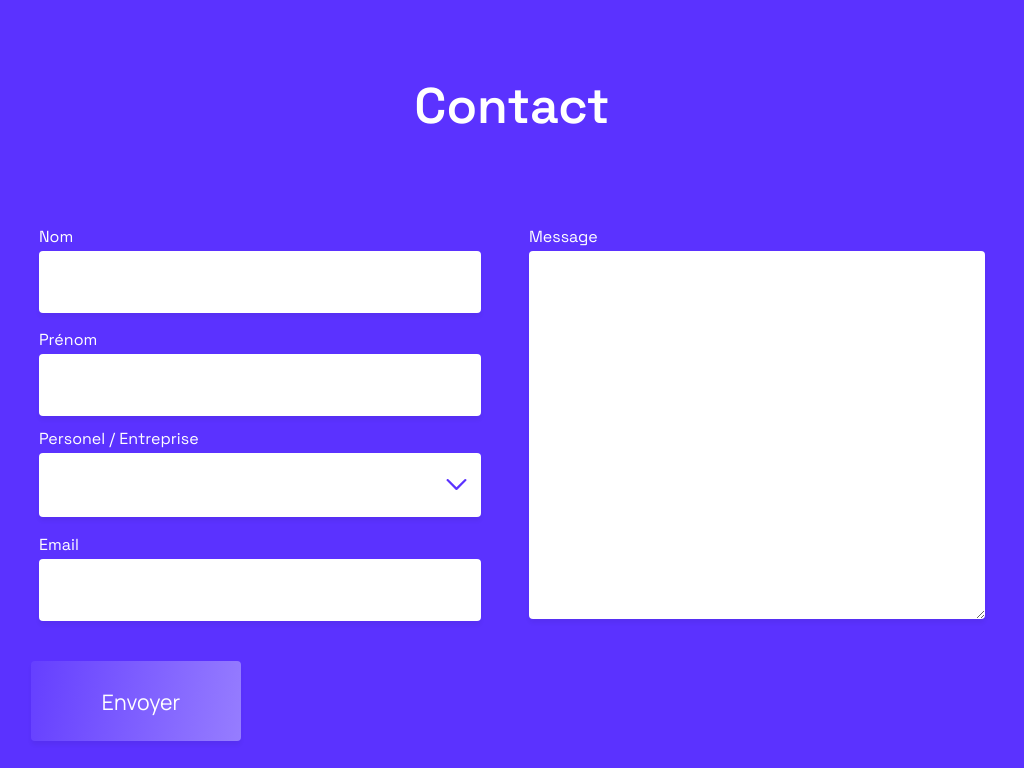
Contact form › should close the modal after clicking the close button
The width and height of the screenshot is (1024, 768).
(page scrolled)
Type "Dupont" into the 1st field at (260, 282), box [39,251,481,313]
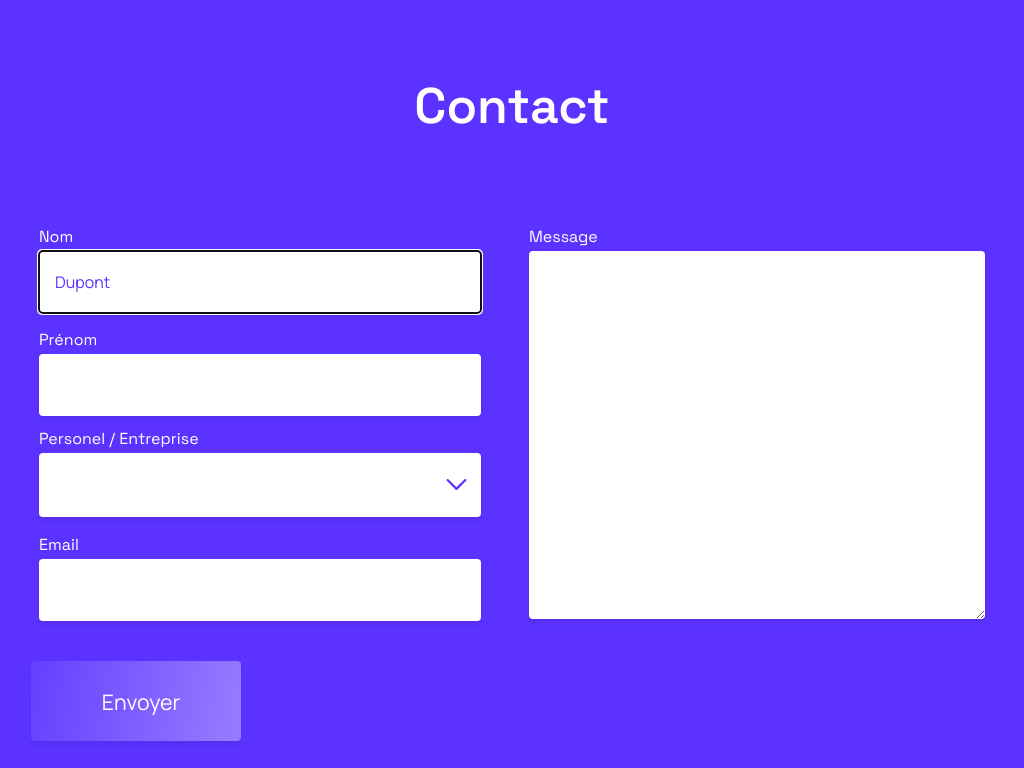
Type "Jean" into the field below "Prénom" at (260, 385), box [39,354,481,416]
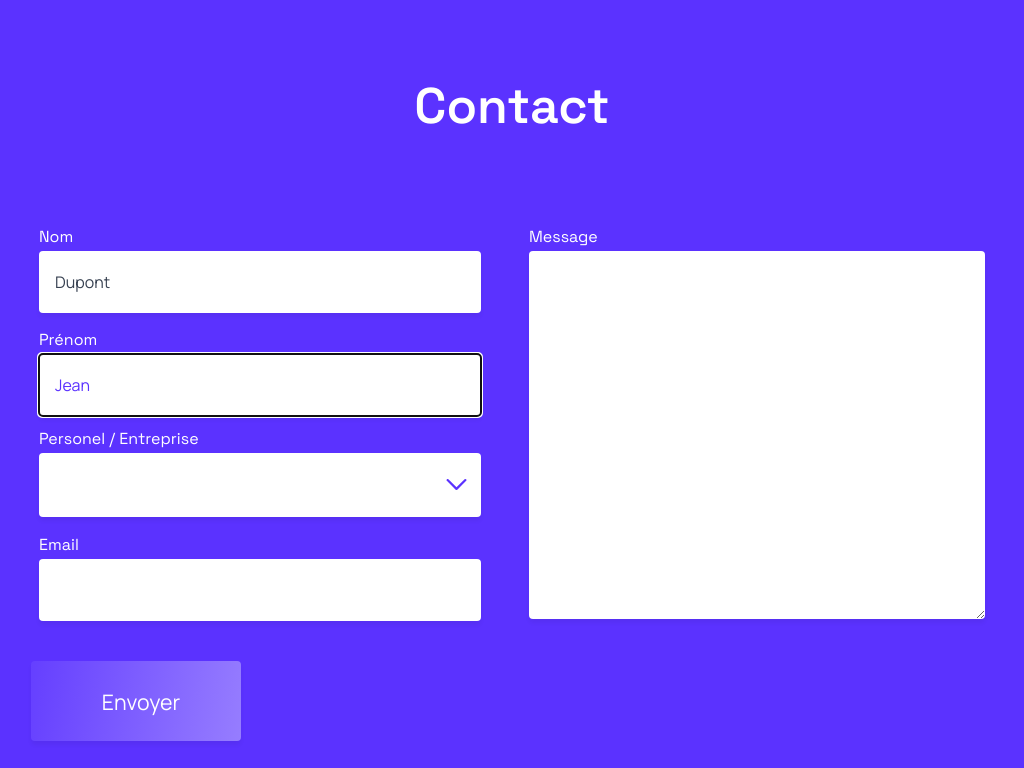
Type "jean.dupont@email.com" into the field below "Email" at (260, 590), box [39,559,481,621]
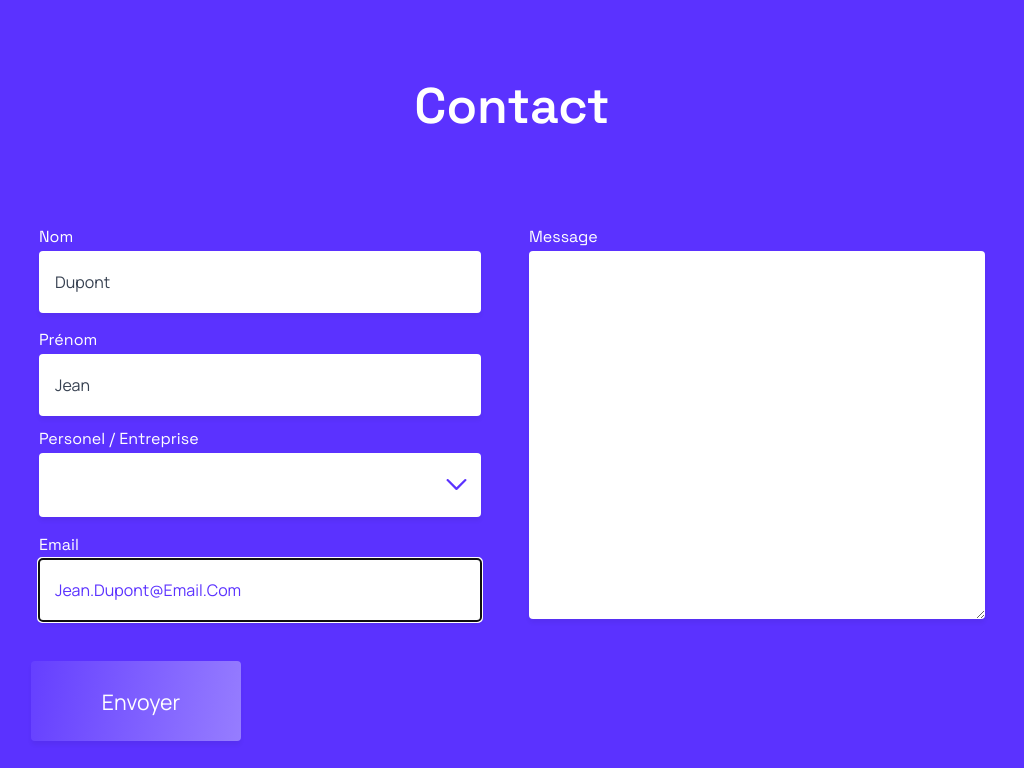
Type "Bonjour." into the text box at (757, 435), box [529,251,985,619]
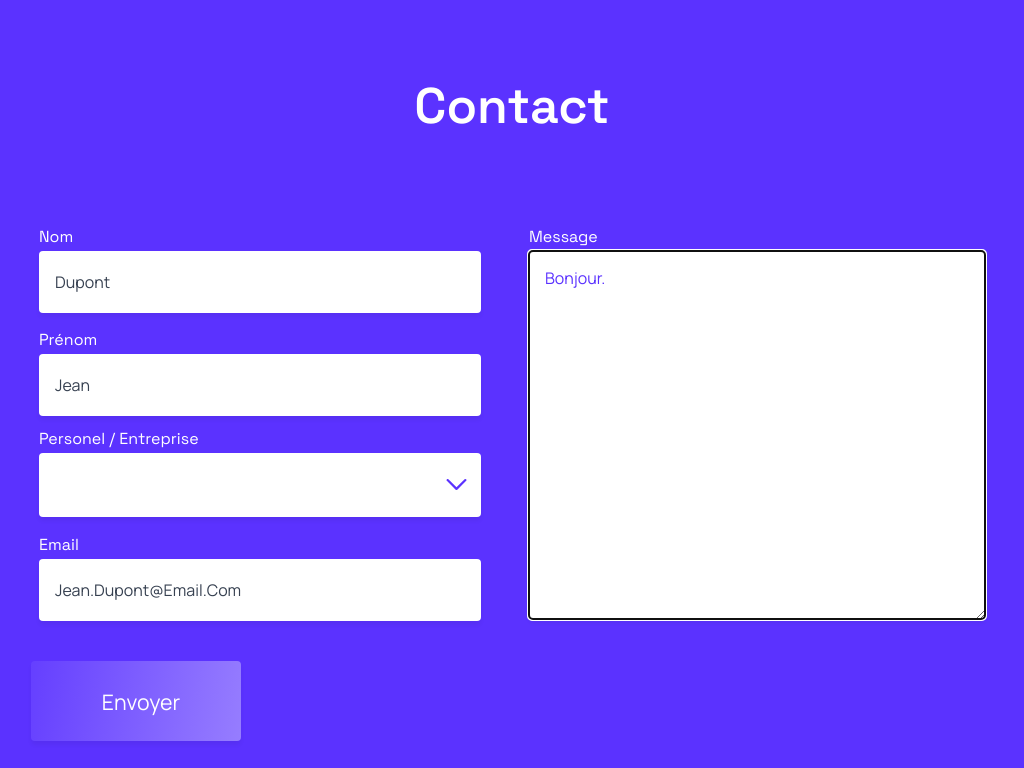
Click the button "Envoyer" at (136, 701), box [31,661,241,741]
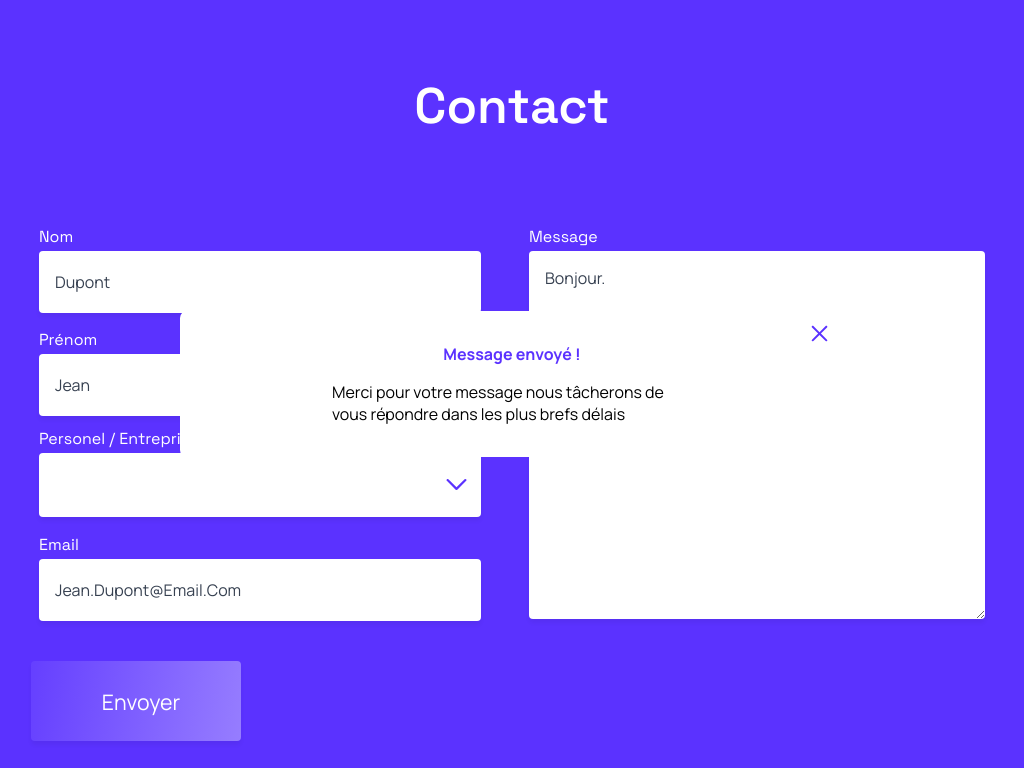
Result: the text "Message envoyé !" is shown at [443,343,581,365]
Click the button with test id "close-modal" at (820, 336), box [796,315,844,356]
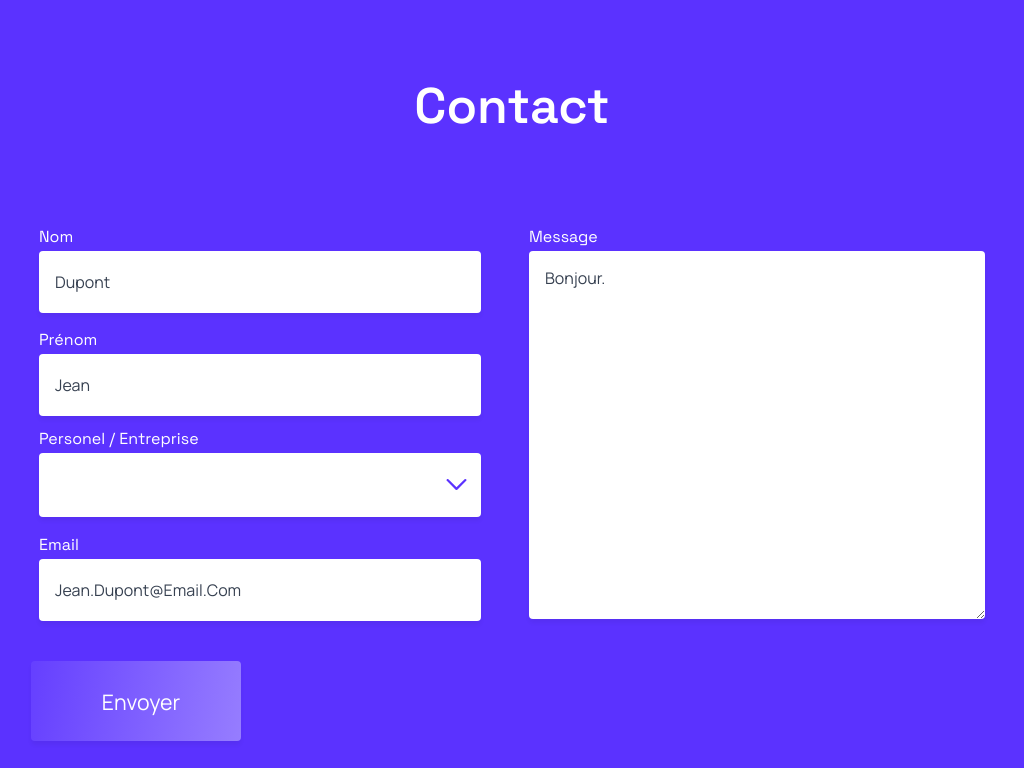
Result: the text "Message envoyé !" is gone
